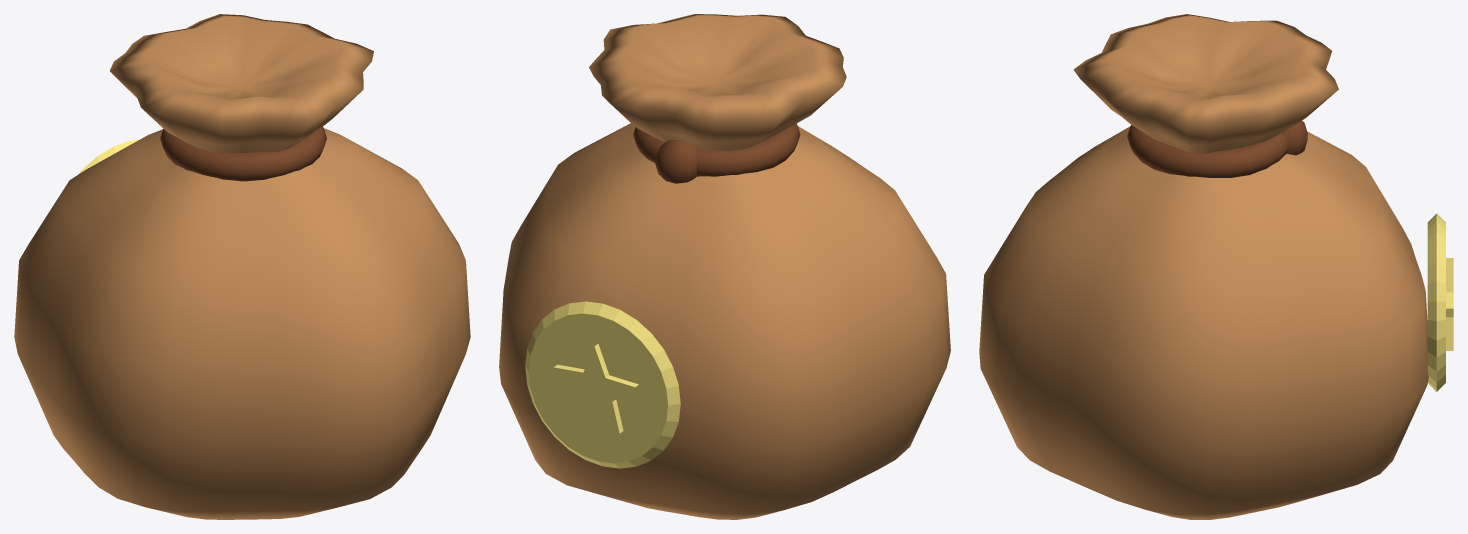
Rendered from ParasolPlummetBag.obj.
The picture shows the model from 3 angles, left to right: view 1: azimuth 30°, elevation 25°; view 2: azimuth 150°, elevation 25°; view 3: azimuth 270°, elevation 25°; orthographic projection.
Visible parts, largest first — view 1: Sack, Tie; view 2: Sack, Emblem, Tie; view 3: Sack, Tie, Emblem.
Part boxes in pixels (box(x1,y1,x2,y2)): Sack: box(14, 14, 470, 519); Tie: box(160, 126, 326, 181); Sack: box(499, 14, 950, 519); Emblem: box(525, 301, 680, 468); Tie: box(633, 123, 800, 183); Sack: box(979, 14, 1428, 519); Tie: box(1127, 121, 1307, 177); Emblem: box(1427, 213, 1453, 391).
Bounding box in the file's own units: 2.93 × 3 × 3.08.
